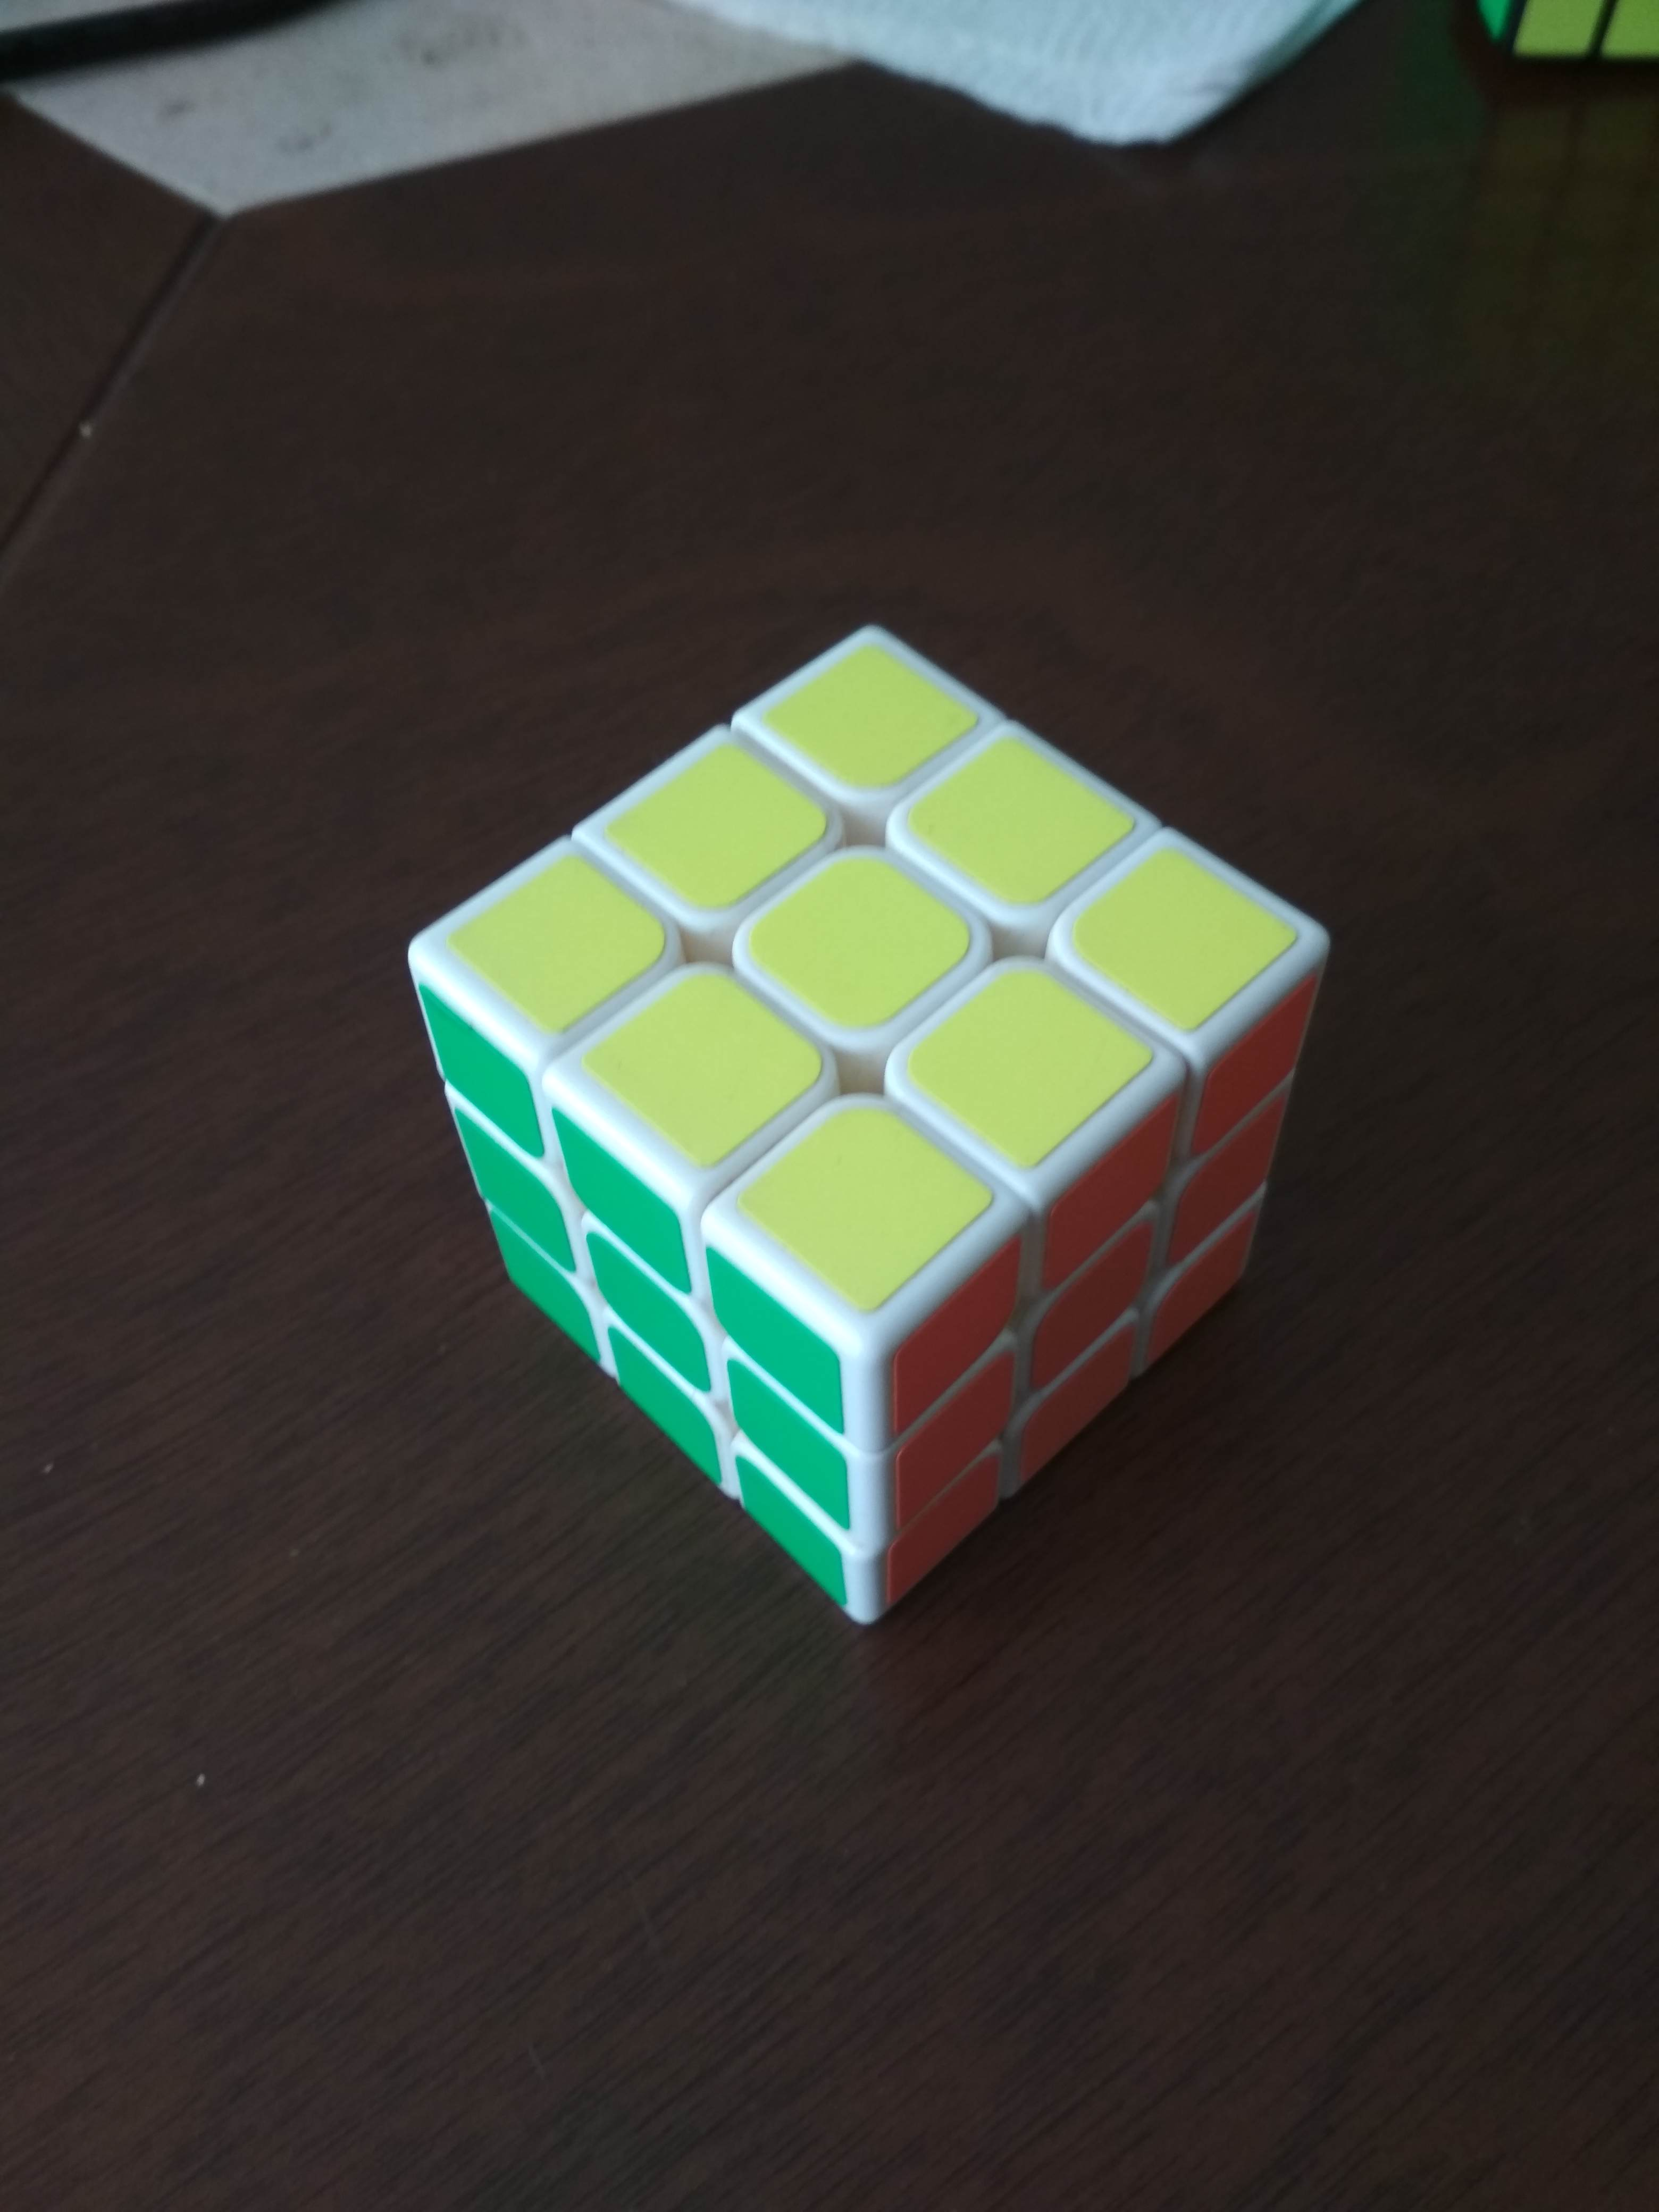rubik_cube: (376, 585, 1371, 1667)
